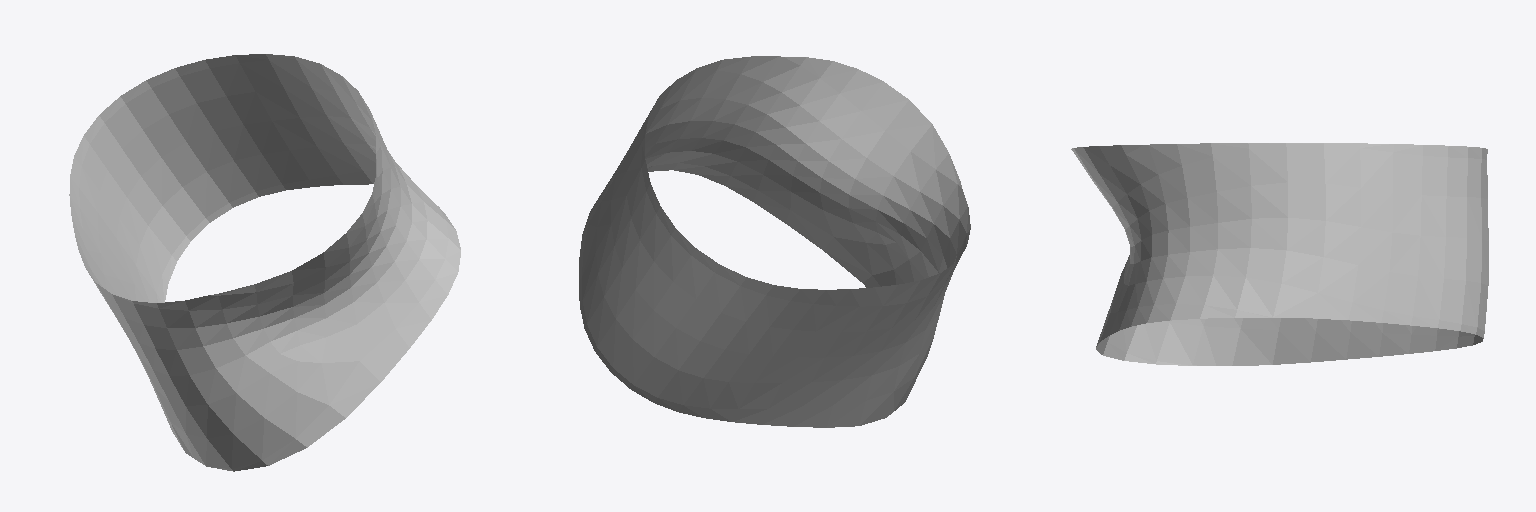
File: cotS.obj
3 renders of one model, left to right at view 1: azimuth 30°, elevation 25°; view 2: azimuth 150°, elevation 25°; view 3: azimuth 270°, elevation 25°, orthographic.
Visible parts, largest first — view 1: cotS; view 2: cotS; view 3: cotS.
Part boxes in pixels (x1,y1,x2,y2): cotS: (69, 54, 460, 471); cotS: (579, 56, 970, 427); cotS: (1071, 143, 1488, 365).
Bounding box in the file's own units: 1.28 × 1.15 × 1.39.